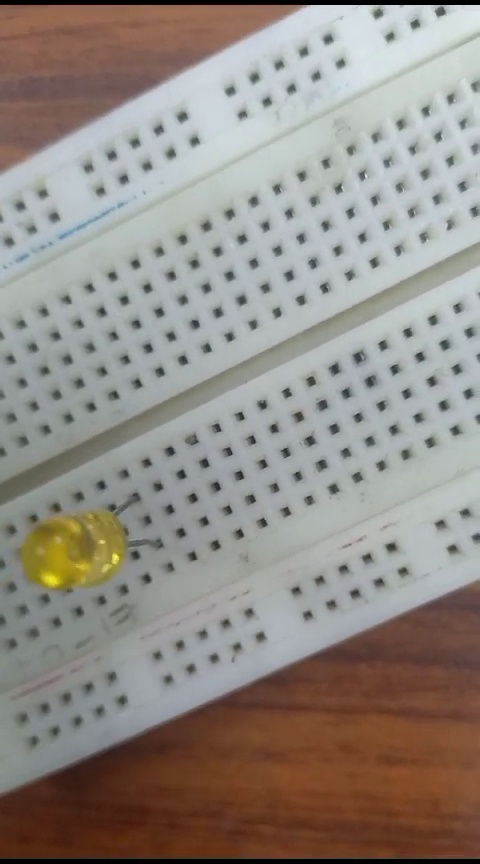LED: (19, 505, 171, 592)
